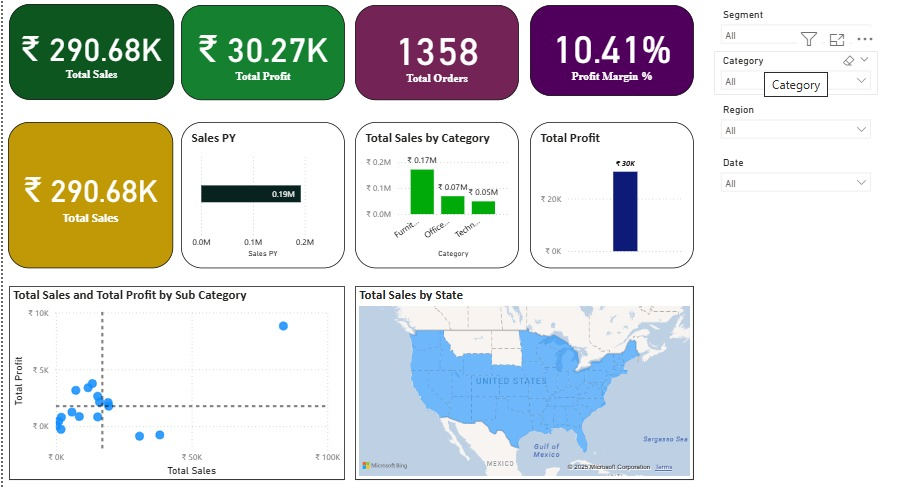

Layout of this report page (visuals, bound fields, positions):
{"tool":"powerbi","page":{"name":"Executive Summary","canvas":[1280,720],"ordinal":1},"visuals":[{"type":"card","fields":{"Values":["Sales.Total Sales"]},"box":[8.6,5.7,235.7,137.1],"z":0},{"type":"card","fields":{"Values":["Sales.Total Profit"]},"box":[254.3,7.1,234.3,135.7],"z":1000},{"type":"card","fields":{"Values":["Sales.Total Orders"]},"box":[502.9,7.1,234.3,135.7],"z":2000},{"type":"card","fields":{"Values":["Sales.Profit Margin %"]},"box":[752.9,7.1,234.3,130],"z":3000},{"type":"card","fields":{"Values":["Sales.Total Sales"]},"box":[7.1,174.3,235.7,208.6],"z":4000},{"type":"clusteredBarChart","fields":{"Y":["Sales.Sales PY"]},"box":[254.3,174.3,234.3,208.6],"z":5000},{"type":"clusteredColumnChart","fields":{"Category":["Sales.Category"],"Y":["Sales.Total Sales"]},"box":[502.9,174.3,234.3,208.6],"z":6000},{"type":"clusteredColumnChart","fields":{"Y":["Sales.Total Profit"]},"box":[752.9,174.3,234.3,208.6],"z":7000},{"type":"filledMap","fields":{"Category":["Sales.State"]},"box":[502.9,408.6,484.3,277.1],"z":8000},{"type":"slicer","fields":{"Values":["Date.Date"]},"box":[1016.2,218.8,233.8,62.5],"z":9000},{"type":"slicer","fields":{"Values":["Sales.Region"]},"box":[1016.2,142.5,233.8,63.8],"z":10000},{"type":"slicer","fields":{"Values":["Sales.Segment"]},"box":[1016.2,7.5,233.8,65],"z":11000},{"type":"slicer","fields":{"Values":["Sales.Category"]},"box":[1016.2,72.5,233.8,63.8],"z":12000},{"type":"scatterChart","fields":{"X":["Sales.Total Sales"],"Y":["Sales.Total Profit"],"Category":["Sales.Sub Category"]},"box":[8.6,408.6,480,277.1],"z":13000}]}

Visuals, with their boxes in screenshot pixels (x1, y1, x2, y2):
card - Sales.Total Sales: crop(11, 4, 174, 99)
card - Sales.Total Profit: crop(181, 5, 343, 99)
card - Sales.Total Orders: crop(353, 5, 516, 99)
card - Sales.Profit Margin %: crop(527, 5, 689, 95)
card - Sales.Total Sales: crop(10, 121, 173, 265)
clusteredBarChart - Sales.Sales PY: crop(181, 121, 343, 265)
clusteredColumnChart - Sales.Category x Sales.Total Sales: crop(353, 121, 516, 265)
clusteredColumnChart - Sales.Total Profit: crop(527, 121, 689, 265)
filledMap - Sales.State: crop(353, 283, 689, 475)
slicer - Date.Date: crop(709, 152, 871, 195)
slicer - Sales.Region: crop(709, 99, 871, 143)
slicer - Sales.Segment: crop(709, 5, 871, 50)
slicer - Sales.Category: crop(709, 50, 871, 94)
scatterChart - Sales.Total Sales x Sales.Total Profit: crop(11, 283, 343, 475)
